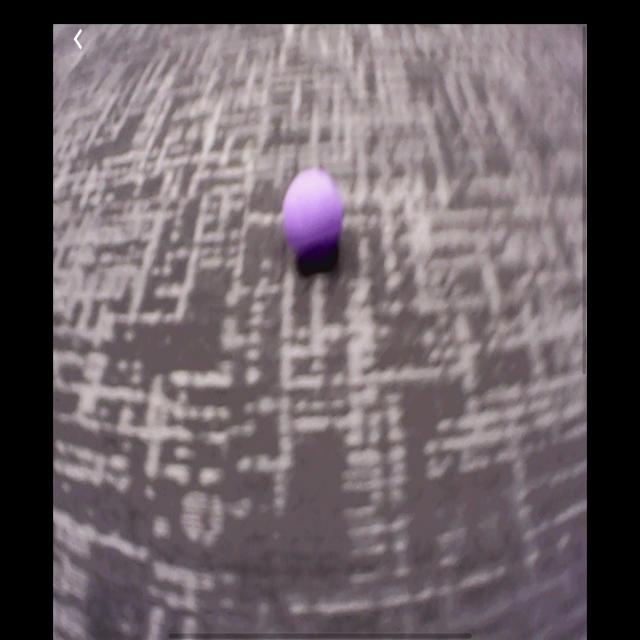ball: (282, 172, 346, 261)
